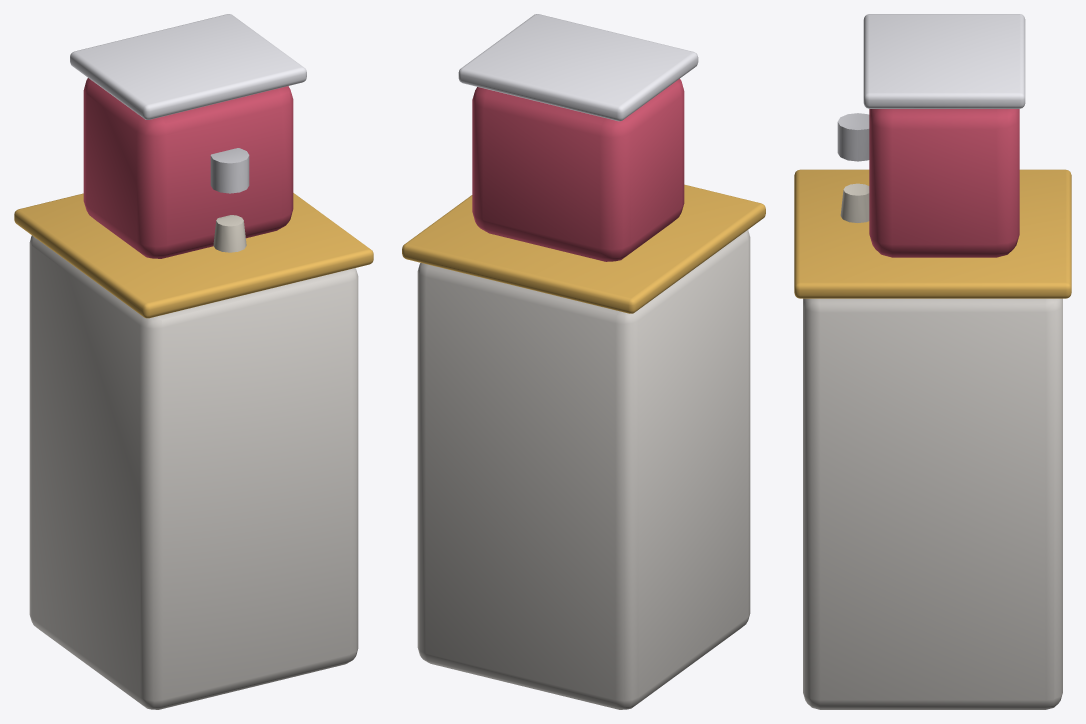
The model's file is gift-tomas.glb.
The picture shows the model from 3 angles, left to right: view 1: azimuth 30°, elevation 25°; view 2: azimuth 150°, elevation 25°; view 3: azimuth 270°, elevation 25°; orthographic projection. The views are drawn at different scales.
Parts seen in each view (by area): view 1: gift-tomas; view 2: gift-tomas; view 3: gift-tomas.
Boxes of the visible parts, box(x1,y1,x2,y2) form: gift-tomas: box(14, 14, 373, 709); gift-tomas: box(402, 14, 765, 709); gift-tomas: box(794, 14, 1071, 709).
Size of the model in its own units: 0.48 by 1.16 by 0.48.
